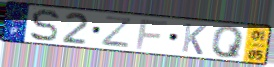2: (61, 12, 91, 46)
F: (134, 19, 170, 51)
K: (180, 21, 209, 56)
Q: (211, 26, 247, 60)
S: (29, 8, 62, 44)
Z: (100, 14, 134, 49)
